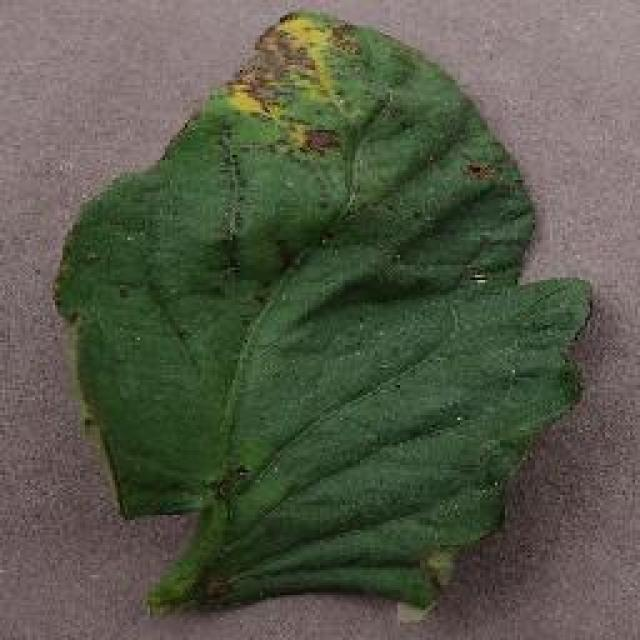Tomato___Bacterial_spot: (48, 7, 598, 625)
